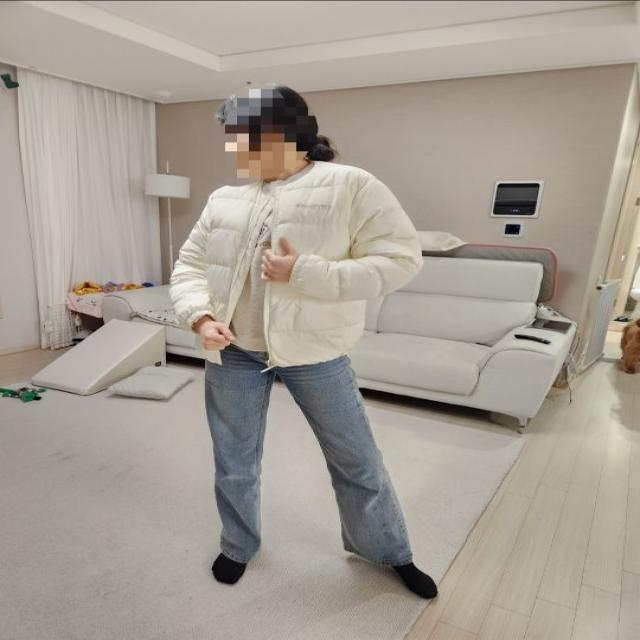denimpants: (203, 339, 420, 575)
padding: (168, 161, 426, 368)
